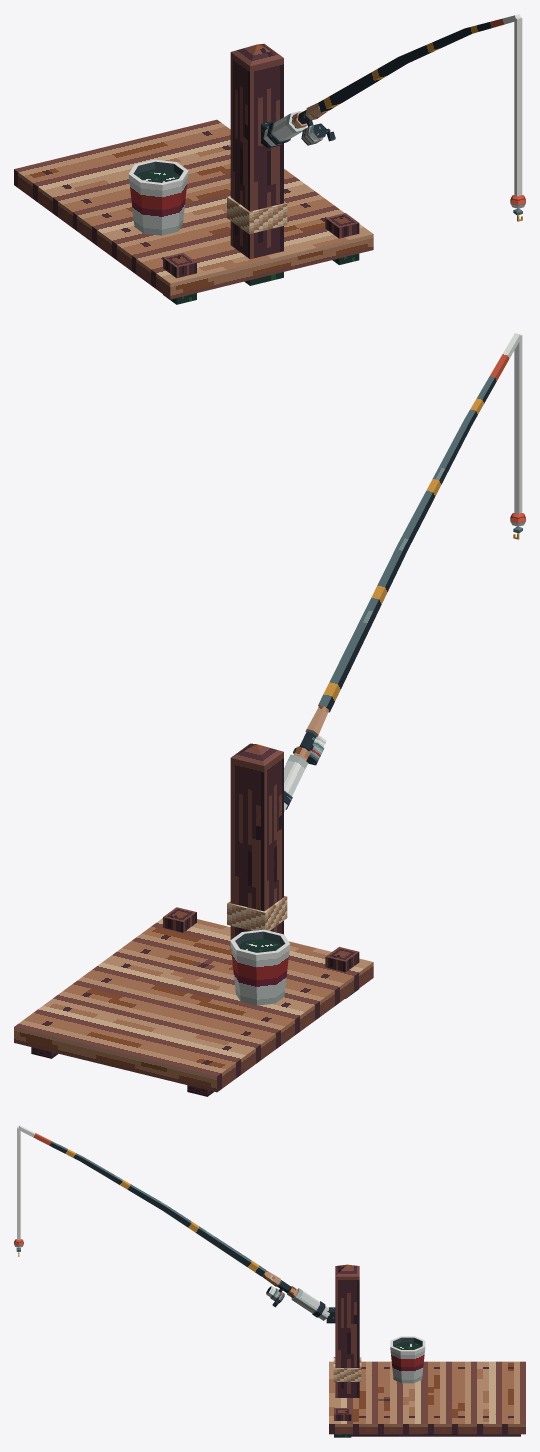
The model's file is rigs.glb.
3 renders of one model, top to bottom at view 1: azimuth 30°, elevation 25°; view 2: azimuth 150°, elevation 25°; view 3: azimuth 270°, elevation 25°, orthographic. The views are drawn at different scales.
Visible parts, largest first — view 1: rod_station_body, line; view 2: rod_station_body, line; view 3: rod_station_body, line.
Part boxes in pixels (x1,y1,x2,y2): rod_station_body: [14, 14, 520, 304]; line: [514, 17, 522, 196]; rod_station_body: [14, 333, 521, 1096]; line: [514, 334, 522, 514]; rod_station_body: [18, 1125, 525, 1437]; line: [17, 1126, 20, 1239].
Size of the model in its own units: 1.2 by 2.54 by 4.16.
1 material, 1 textured.
